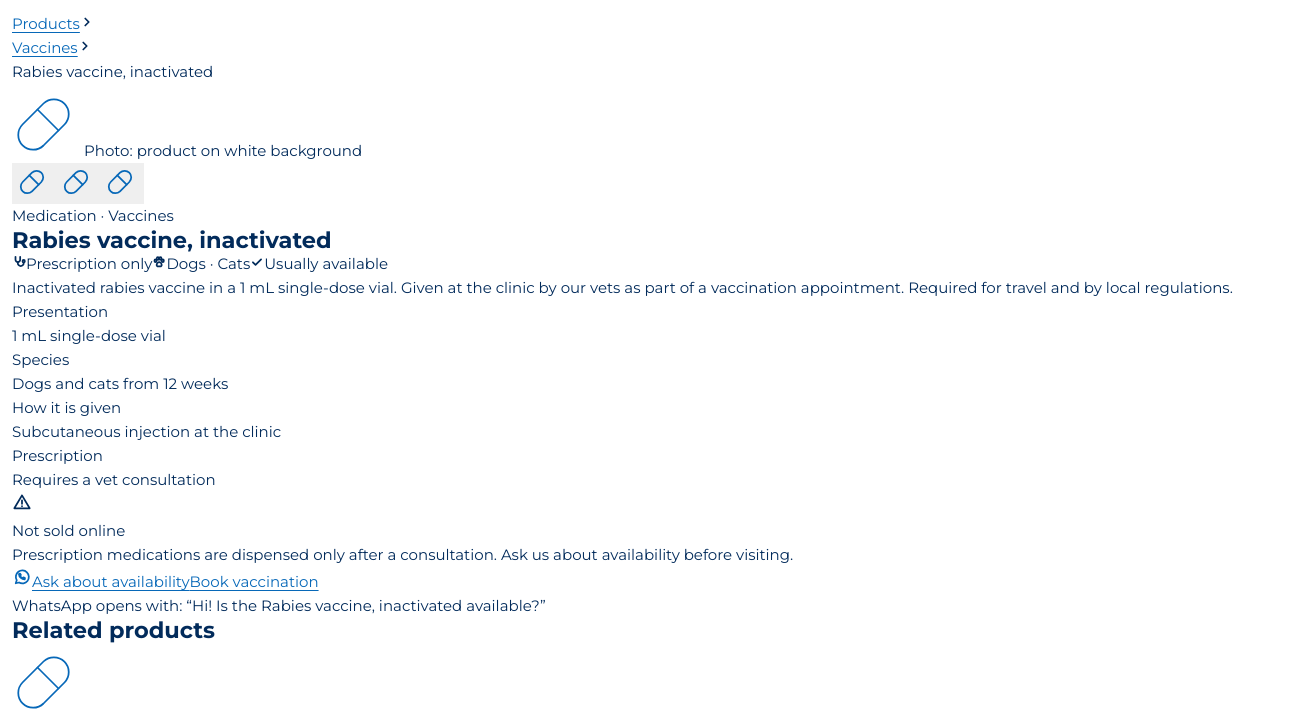
ProductDetail › lists four related products and switches the gallery image
What coordinates should you click on to do the following:
click the button named "packaging"
I would click on:
 (78, 184)
Its box is x1=56 y1=163 x2=100 y2=204.
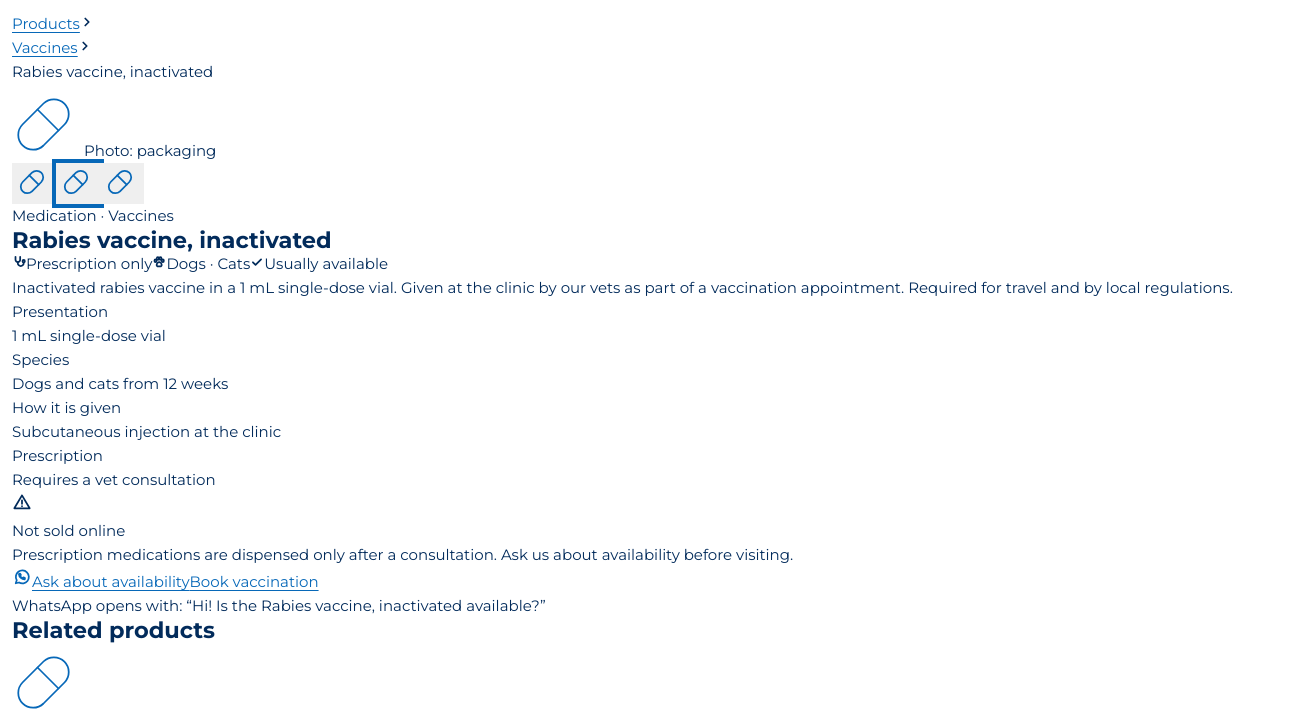
expect the text "Photo: packaging" is shown: met, box x1=84 y1=141 x2=216 y2=160
